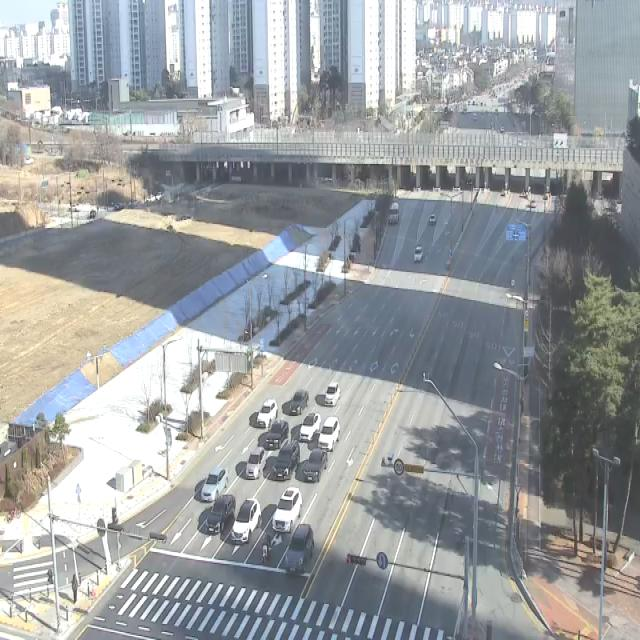Car: (286, 524, 314, 574), (272, 486, 302, 532), (232, 498, 262, 544), (206, 495, 236, 534), (274, 440, 300, 481), (200, 468, 228, 500), (304, 448, 328, 483), (318, 417, 341, 451), (265, 420, 289, 449), (246, 447, 266, 480), (299, 412, 321, 442), (256, 398, 278, 428), (289, 390, 309, 415), (324, 381, 340, 406), (414, 245, 424, 263), (429, 214, 437, 226)
Truck: (389, 202, 400, 224)
